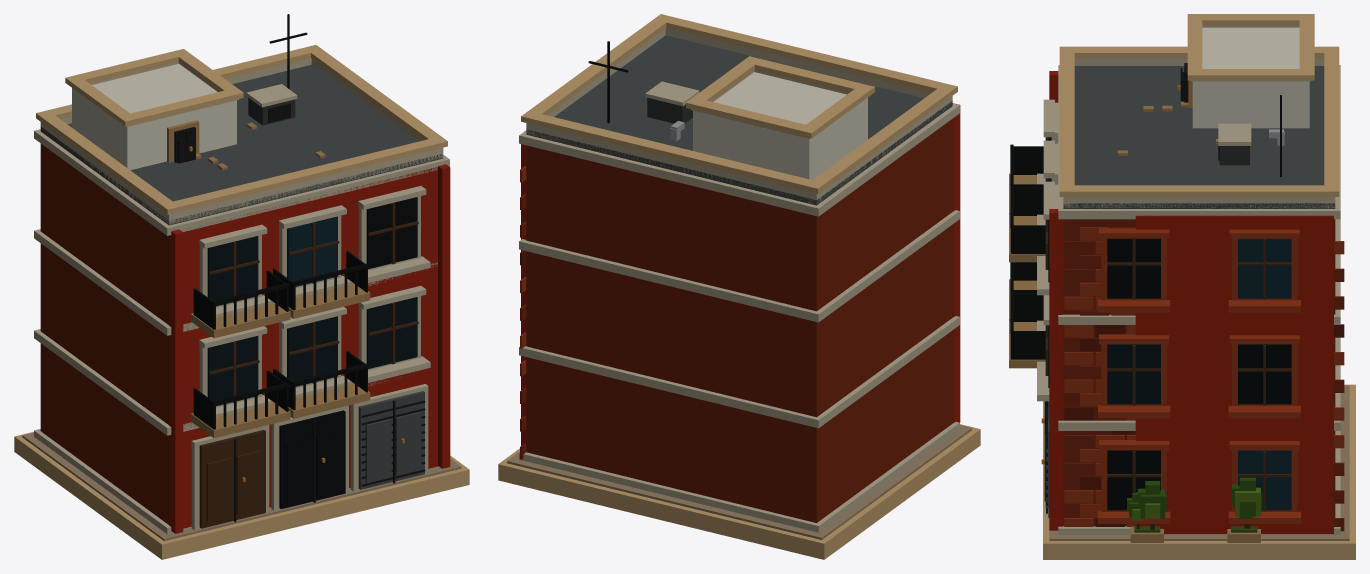
Rendered from SM_Mapa_034.fbx.
3 views of the same model, side by side, from view 1: azimuth 30°, elevation 25°; view 2: azimuth 150°, elevation 25°; view 3: azimuth 270°, elevation 25° (orthographic). The views are drawn at different scales.
Visible parts, largest first — view 1: SM_Mapa_034; view 2: SM_Mapa_034; view 3: SM_Mapa_034.
Boxes of the visible parts, x1=… form: SM_Mapa_034: x1=14, y1=14, x2=469, y2=559; SM_Mapa_034: x1=498, y1=14, x2=980, y2=559; SM_Mapa_034: x1=1009, y1=14, x2=1355, y2=559.
Size of the model in its own units: 8 by 7.21 by 9.84.
